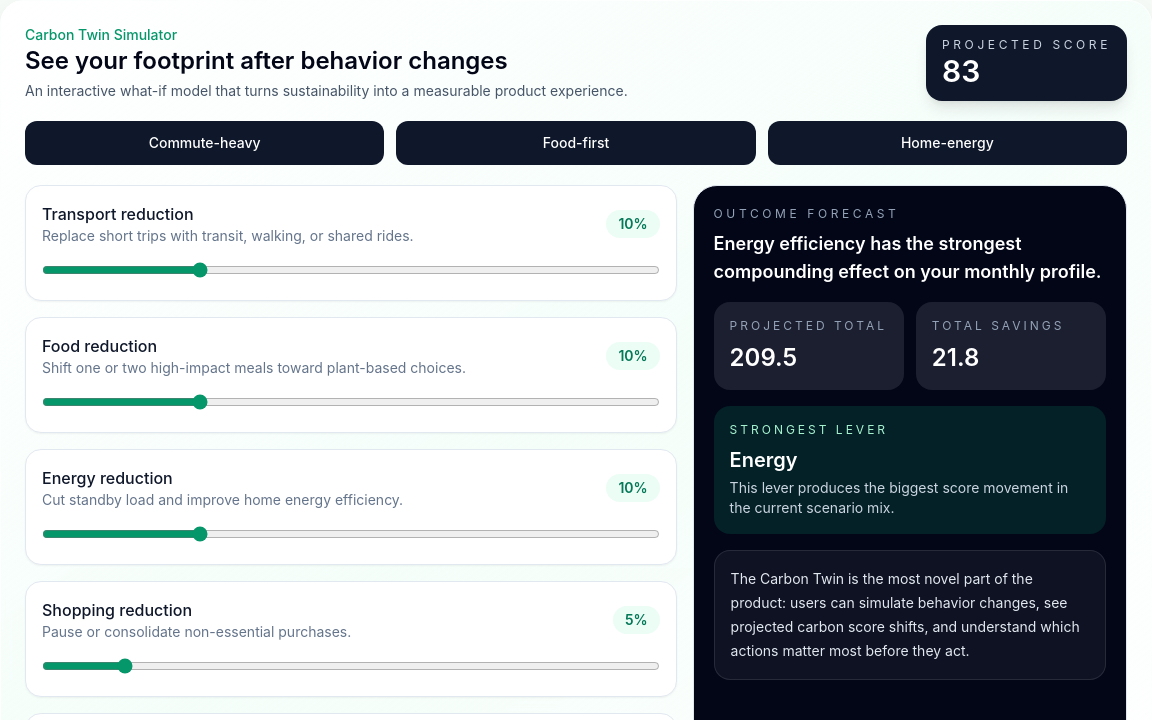
Test: CarbonTwinSimulator › clicking Home-energy preset updates energy slider
Click the button "Home-energy" at {"x": 947, "y": 143}, box [768, 121, 1127, 165]
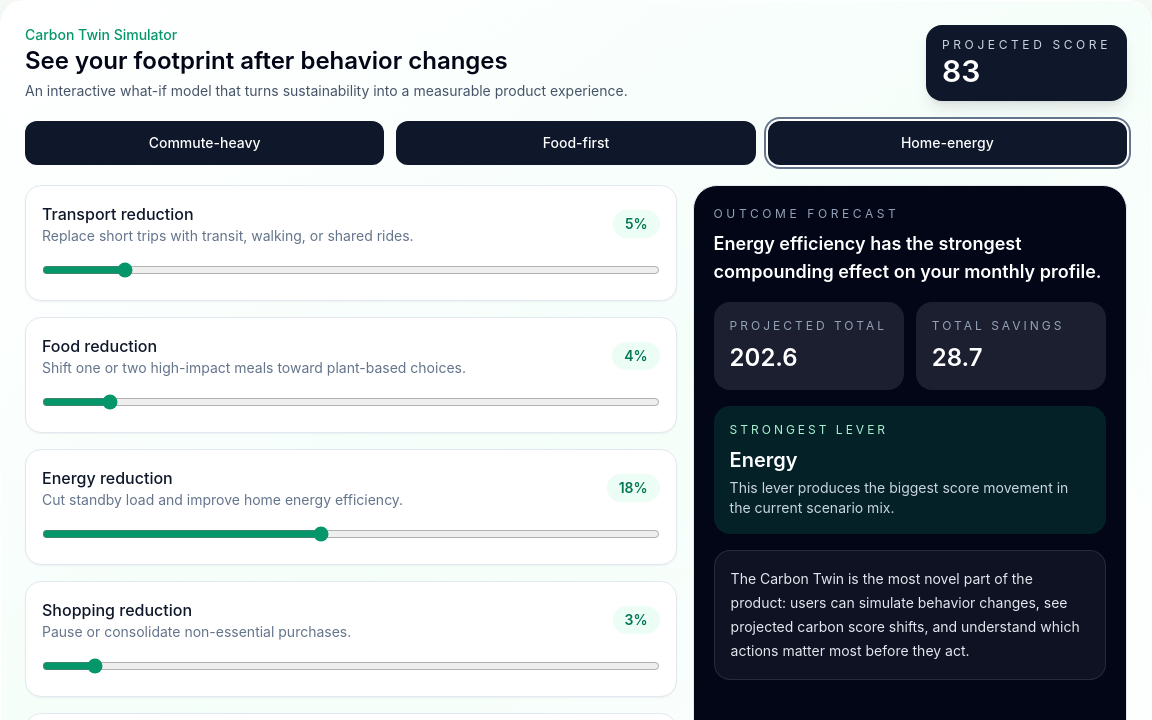
Now the slider labelled "Energy reduction" holds "18", box [42, 526, 660, 542]
